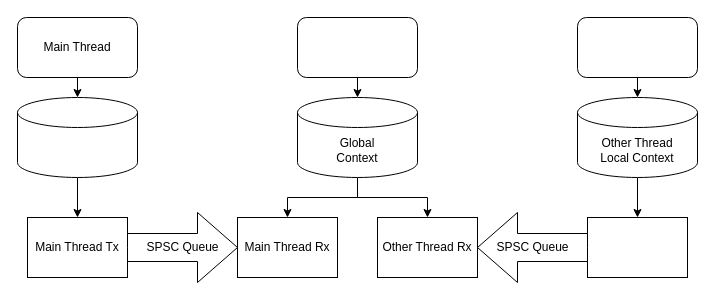
This 715x303 diagram has some shape labels left out. The centre of each missing label's shape, as x and y in pixels:
"Main Thread Local Context" goes at point (77, 137).
"Other Thread" goes at point (637, 47).
"Other Thread Tx" goes at point (637, 247).
"Runner Thread" goes at point (357, 47).
